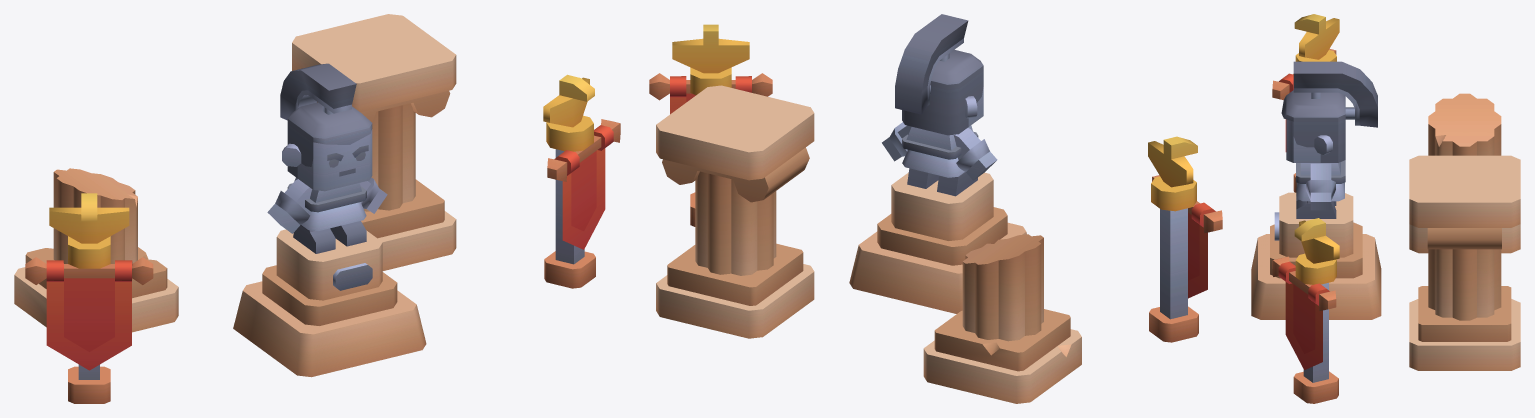
The model's file is MetaEmpirePreview-transformed.glb.
3 renders of one model, left to right at view 1: azimuth 30°, elevation 25°; view 2: azimuth 150°, elevation 25°; view 3: azimuth 270°, elevation 25°, orthographic. The views are drawn at different scales.
Parts seen in each view (by area): view 1: statue; view 2: statue; view 3: statue.
Part boxes in pixels (box(x1,y1,x2,y2)): statue: box(14, 14, 620, 403); statue: box(649, 14, 1222, 403); statue: box(1251, 14, 1520, 403).
Bounding box in the file's own units: 16.1 × 6.68 × 7.25.
1 material, 1 textured.
